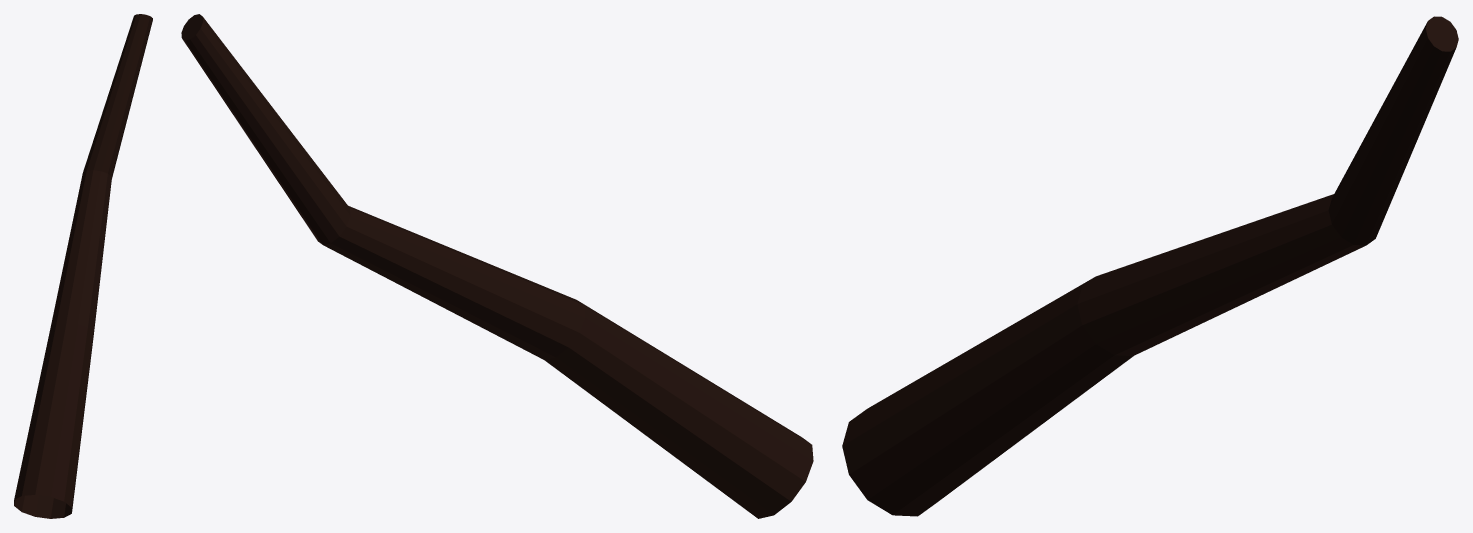
Rendered from canh3.obj.
The picture shows the model from 3 angles, left to right: view 1: azimuth 30°, elevation 25°; view 2: azimuth 150°, elevation 25°; view 3: azimuth 270°, elevation 25°; orthographic projection. The views are drawn at different scales.
Parts seen in each view (by area): view 1: Cylinder.003_Cylinder.006; view 2: Cylinder.003_Cylinder.006; view 3: Cylinder.003_Cylinder.006.
Boxes of the visible parts, x1=… form: Cylinder.003_Cylinder.006: x1=14, y1=14, x2=152, y2=518; Cylinder.003_Cylinder.006: x1=181, y1=14, x2=813, y2=518; Cylinder.003_Cylinder.006: x1=842, y1=16, x2=1458, y2=516.
Size of the model in its own units: 1.96 by 2.5 by 1.96.
